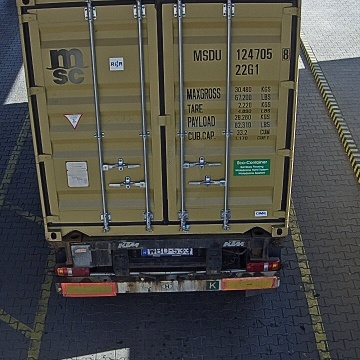serial_id: (194, 48, 289, 60)
